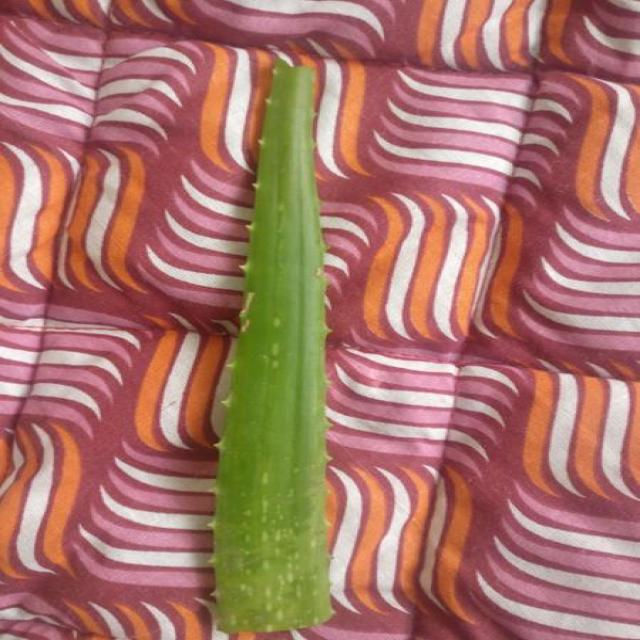alovera: (212, 59, 333, 632)
defectedalovera: (213, 280, 332, 631)
